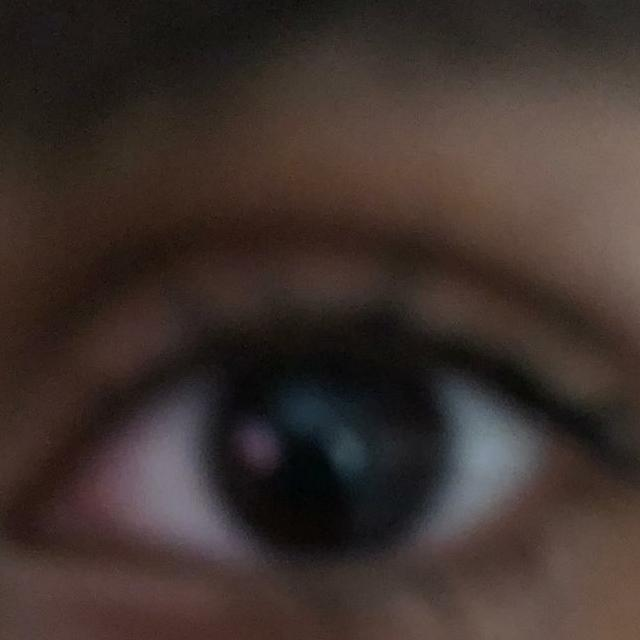eye: (90, 336, 548, 575)
iris: (204, 351, 454, 565)
